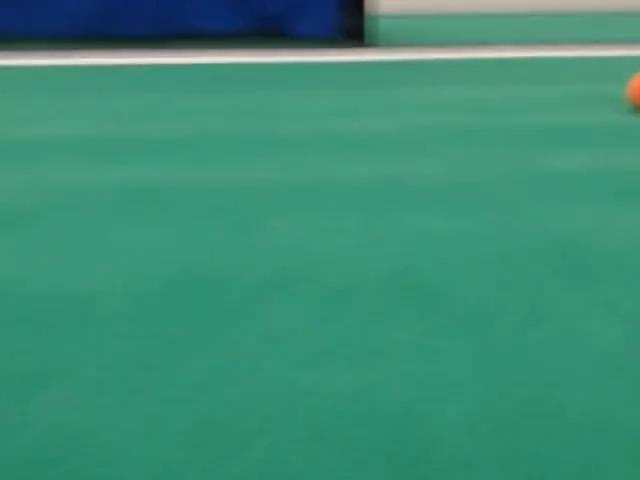Ball: (625, 72, 639, 111)
